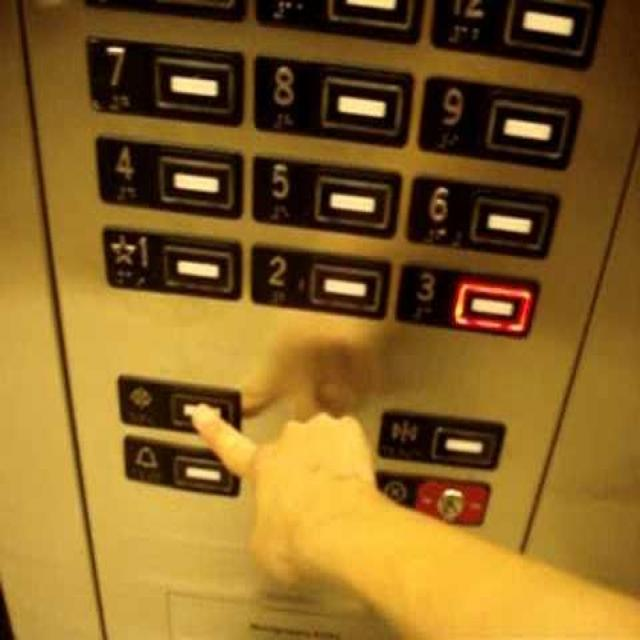2: (246, 236, 393, 331)
3: (392, 256, 542, 343)
4: (90, 130, 245, 222)
5: (248, 149, 402, 244)
6: (402, 169, 565, 260)
7: (83, 31, 244, 132)
8: (249, 45, 415, 154)
9: (414, 68, 585, 173)
alarm: (119, 431, 242, 498)
close: (376, 404, 508, 475)
open: (110, 371, 242, 436)
s1: (99, 220, 243, 305)
stop: (371, 465, 491, 531)
